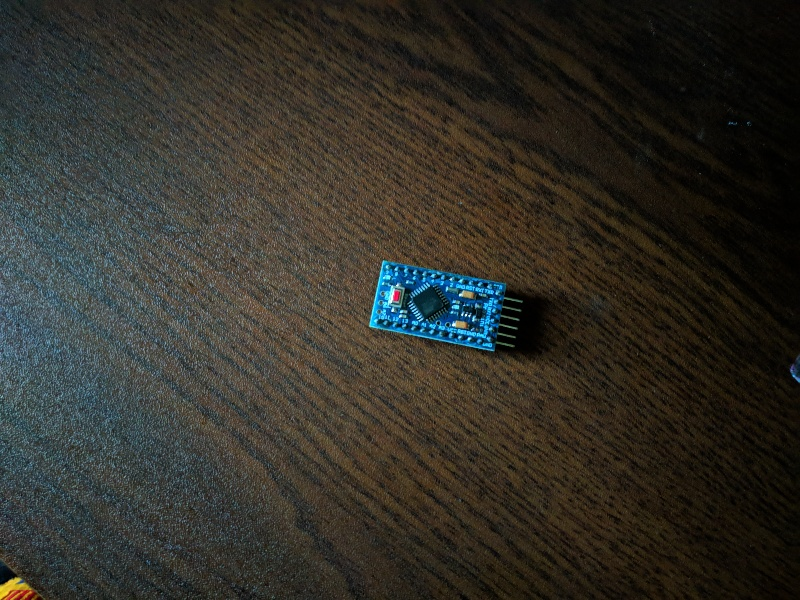Arduino Pro Mini: (361, 255, 515, 359)
